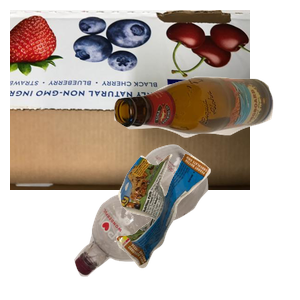cardboard: (10, 10, 250, 190)
glass: (111, 74, 300, 204)
plastic: (72, 142, 273, 300)
trash: (114, 151, 300, 300)
